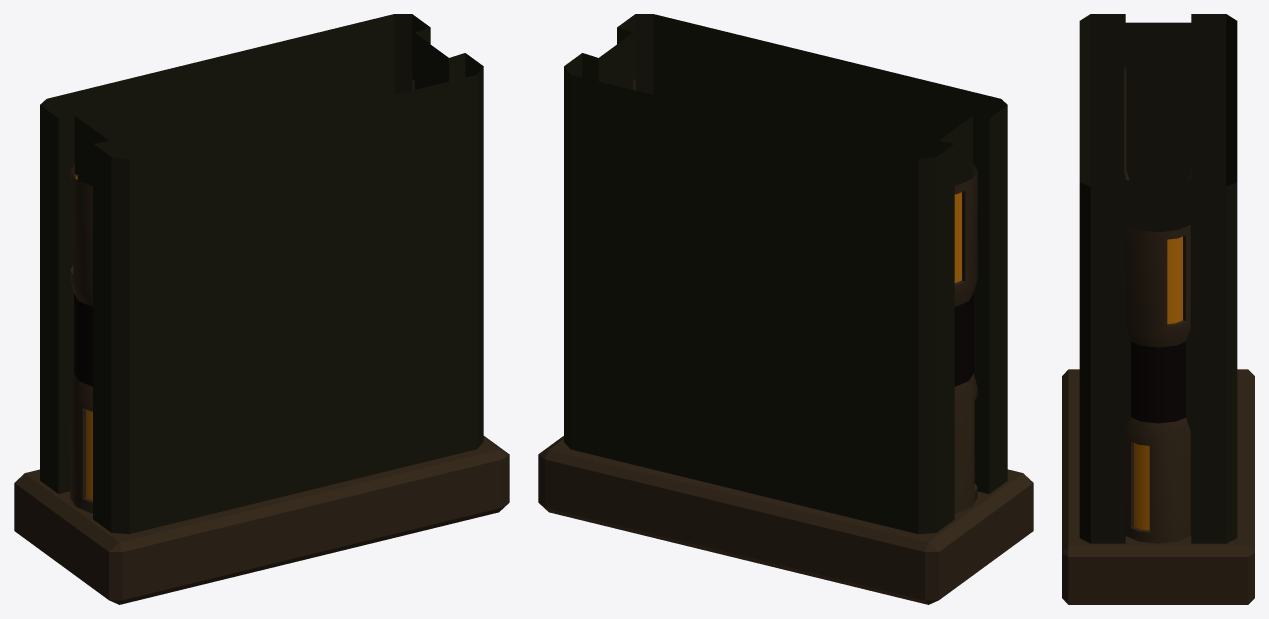
Rendered from OBJ_Pilone_Cube.fbx.
3 views of the same model, side by side, from view 1: azimuth 30°, elevation 25°; view 2: azimuth 150°, elevation 25°; view 3: azimuth 270°, elevation 25° (orthographic). The views are drawn at different scales.
Parts seen in each view (by area): view 1: Pilone_cube_REF003; view 2: Pilone_cube_REF003; view 3: Pilone_cube_REF003.
Boxes of the visible parts, x1,y1,x2,y2 form: Pilone_cube_REF003: (14,14,509,604); Pilone_cube_REF003: (538,14,1033,604); Pilone_cube_REF003: (1062,14,1254,604).
Size of the model in its own units: 1995 by 2086 by 876.
